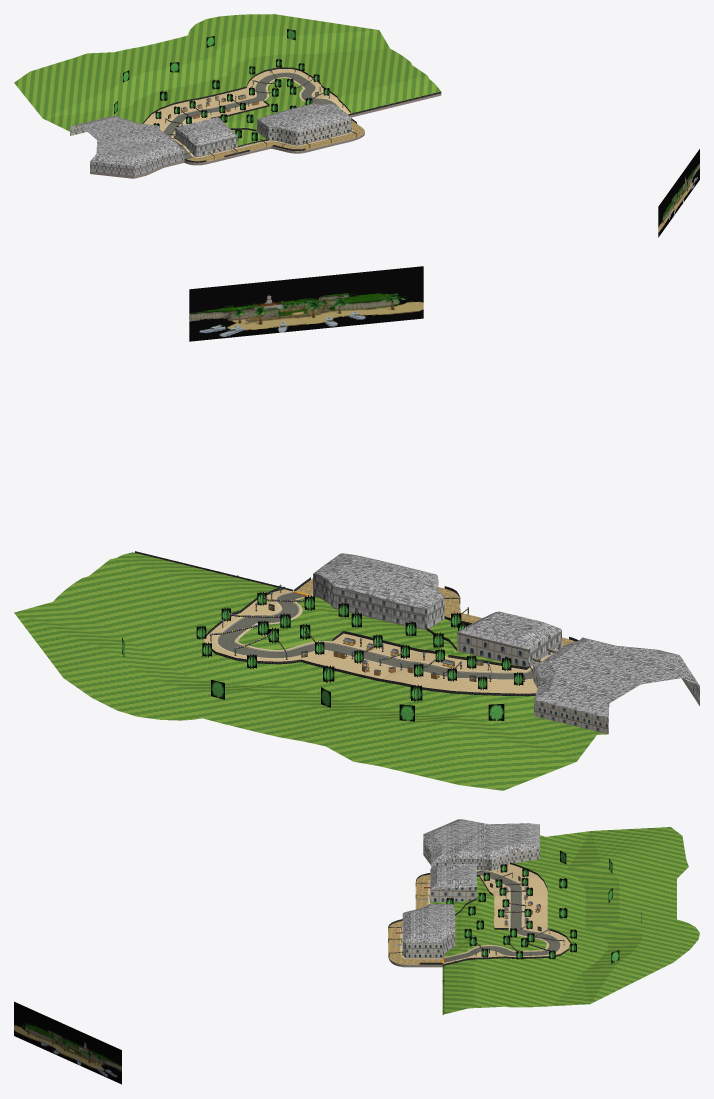
3 renders of one model, top to bottom at view 1: azimuth 30°, elevation 25°; view 2: azimuth 150°, elevation 25°; view 3: azimuth 270°, elevation 25°, orthographic. The views are drawn at different scales.
Parts seen in each view (by area): view 1: grass.039, roof.011, build1.001, tree.005, walkway.001, road.039, sarasa.001, build2.001, sidewalk.003, wall.019, fence.013, promenade.001; view 2: grass.039, roof.011, sarasa.001, tree.005, walkway.001, build1.001, road.039, build2.001, fence.013, sidewalk.003, flag.001; view 3: grass.039, roof.011, sarasa.001, walkway.001, tree.005, build2.001, road.039, sidewalk.003, promenade.001, build1.001, fence.013, flag.001.
Boxes of the visible parts, x1,y1,x2,y2 form: grass.039: (14,14,440,145); roof.011: (71,104,351,166); build1.001: (90,119,268,176); tree.005: (114,29,329,141); walkway.001: (143,69,350,137); road.039: (163,73,338,159); sarasa.001: (658,149,699,237); build2.001: (70,118,351,145); sidewalk.003: (162,71,364,162); wall.019: (90,93,441,178); fence.013: (142,67,441,162); promenade.001: (187,120,364,161); grass.039: (14,552,607,790); roof.011: (313,553,699,717); sarasa.001: (189,266,423,341); tree.005: (122,591,523,721); walkway.001: (204,589,537,693); build1.001: (313,573,699,701); road.039: (217,592,532,679); build2.001: (457,632,608,734); fence.013: (135,551,578,696); sidewalk.003: (214,578,575,680); flag.001: (211,597,560,673); grass.039: (430,827,699,1014); roof.011: (402,819,539,943); sarasa.001: (14,1001,121,1084); walkway.001: (443,864,569,964); tree.005: (446,850,641,963); build2.001: (402,848,539,958); road.039: (442,871,560,963); sidewalk.003: (388,870,562,964); promenade.001: (388,875,442,964); build1.001: (423,842,491,957); fence.013: (388,862,570,981); flag.001: (388,867,563,953).
Size of what is drawn, in the model's own units: 171419 by 11442 by 202305.
Materials: 22 (22 with a texture image).
